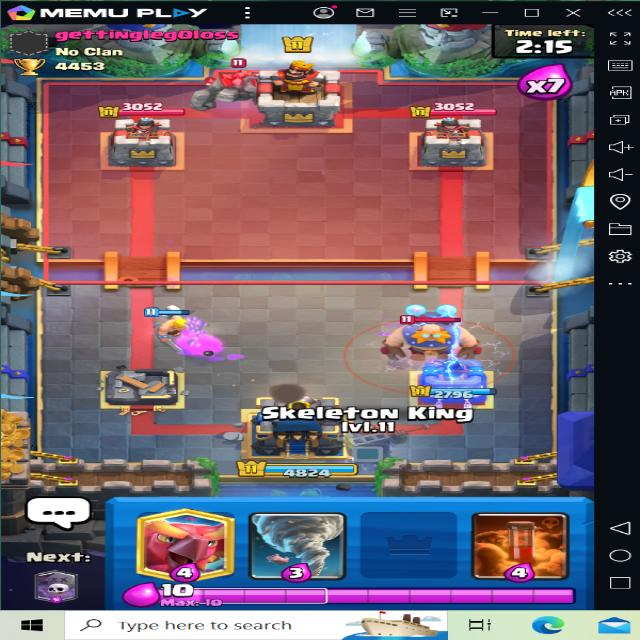electro-giant: (382, 304, 488, 364)
golem: (182, 53, 282, 112)
